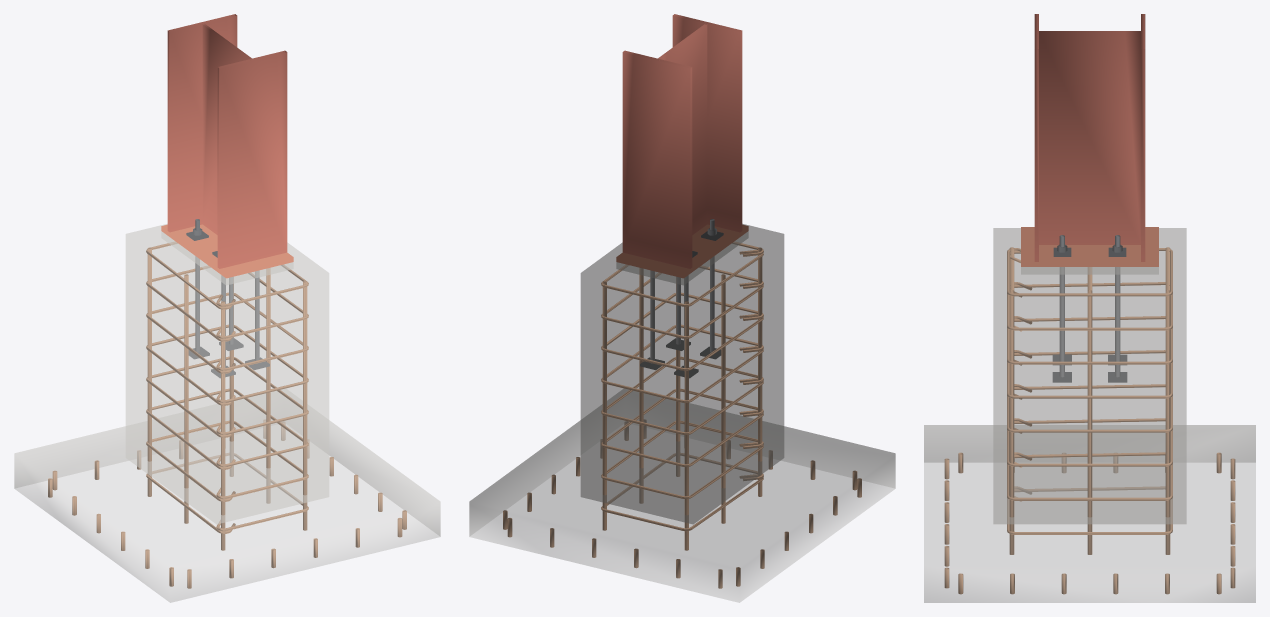
File: base_gable.glb
3 renders of one model, left to right at view 1: azimuth 30°, elevation 25°; view 2: azimuth 150°, elevation 25°; view 3: azimuth 270°, elevation 25°, orthographic. The views are drawn at different scales.
Visible parts, largest first — view 1: concrete, frame, rebar, bolt, plate; view 2: concrete, frame, rebar, bolt, plate; view 3: concrete, frame, rebar, plate, bolt.
Part boxes in pixels (<box>): concrete: <box>14,224,440,602</box>; frame: <box>167,14,287,268</box>; rebar: <box>48,241,406,588</box>; bolt: <box>186,219,269,378</box>; plate: <box>161,224,293,278</box>; concrete: <box>469,224,895,602</box>; frame: <box>622,14,742,268</box>; rebar: <box>503,242,861,588</box>; bolt: <box>640,219,723,378</box>; plate: <box>616,224,748,278</box>; concrete: <box>924,228,1255,602</box>; frame: <box>1034,14,1145,261</box>; rebar: <box>944,247,1235,594</box>; plate: <box>1021,227,1158,266</box>; bolt: <box>1052,235,1127,382</box>.
Bounding box in the file's own units: 1.2 × 2 × 1.2.
